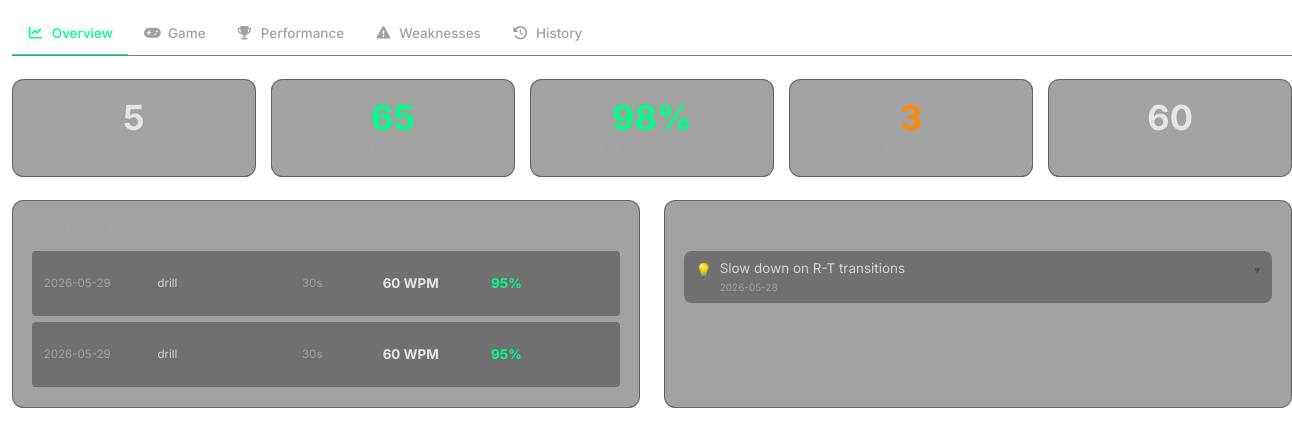
Test: StatsTabs — Overview interactive elements › should expand a tip with explanation when clicked
The width and height of the screenshot is (1292, 425).
# When the user clicks the tip
Click the text "Slow down on R-T transitions" at point(812, 268), box [720, 260, 905, 276]
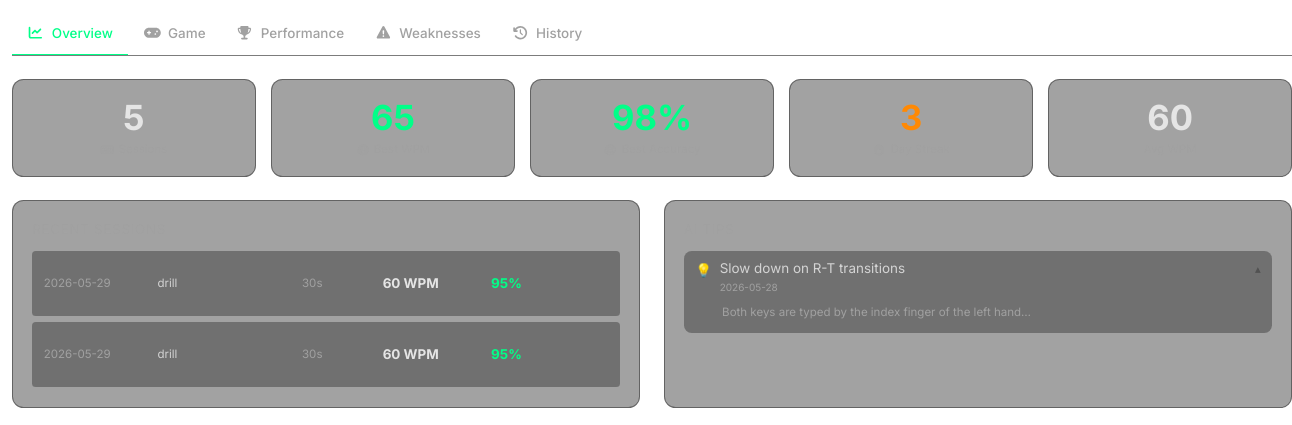
Now the text "Both keys are typed by the index finger of the left hand…" is shown, box [722, 304, 1031, 318]
# When the user clicks again
Click the text "Slow down on R-T transitions" at point(812, 268), box [720, 260, 905, 276]
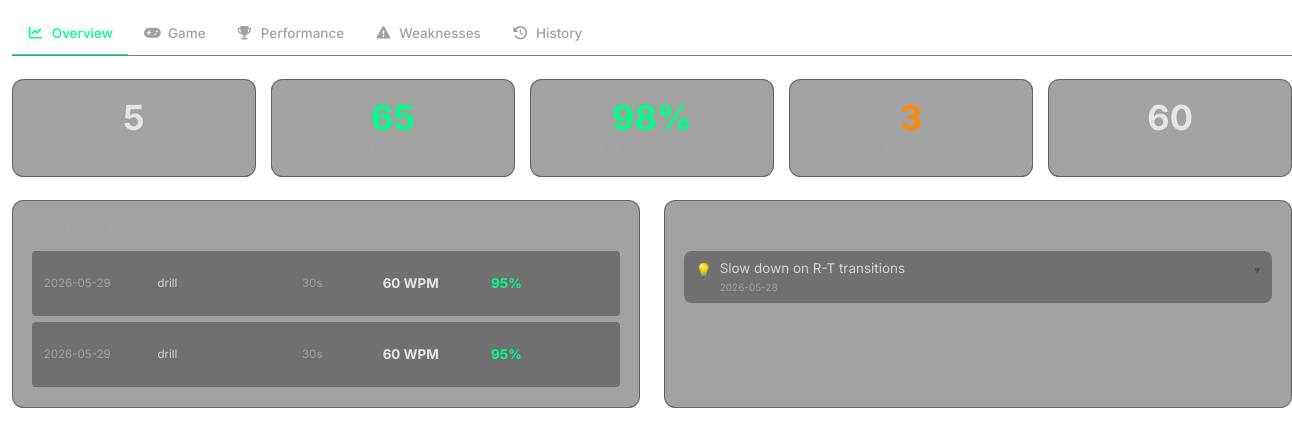
Now the text "Both keys are typed by the index finger" is gone
